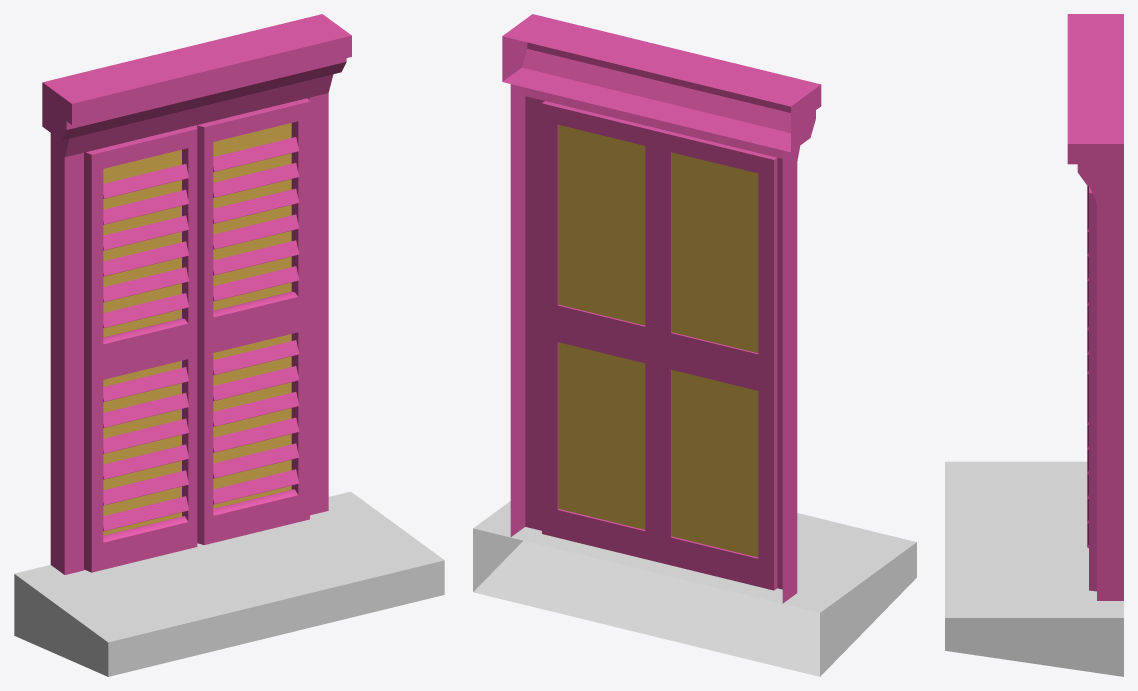
Rendered from SM_HouseBalcony_Closed.fbx.
3 renders of one model, left to right at view 1: azimuth 30°, elevation 25°; view 2: azimuth 150°, elevation 25°; view 3: azimuth 270°, elevation 25°, orthographic. The views are drawn at different scales.
Visible parts, largest first — view 1: Cube.005, Cube.002, Cube.001, Cube.004; view 2: Cube.002, Cube.005, Cube.001, Cube.004; view 3: Cube.001, Cube.002, Cube.004, Cube.005.
Part boxes in pixels (x1,y1,x2,y2): Cube.005: [84, 98, 309, 572]; Cube.002: [50, 74, 333, 574]; Cube.001: [14, 491, 444, 676]; Cube.004: [42, 14, 351, 140]; Cube.002: [510, 69, 800, 603]; Cube.005: [542, 103, 774, 590]; Cube.001: [473, 501, 916, 676]; Cube.004: [502, 14, 821, 152]; Cube.001: [945, 461, 1123, 676]; Cube.002: [1089, 186, 1123, 600]; Cube.004: [1067, 14, 1123, 186]; Cube.005: [1087, 186, 1096, 591].
Size of the model in its own units: 2.04 by 3.17 by 0.9874.
